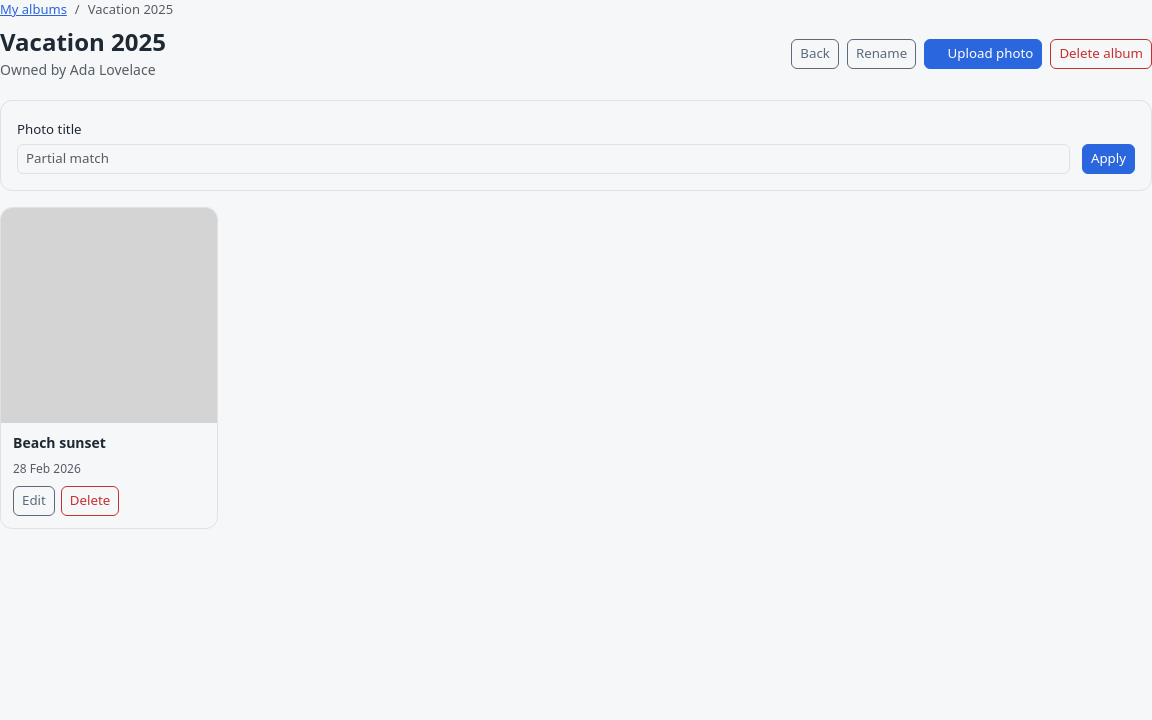
When the API refuses a photo change › abandons a rename when the album dialog is closed
What coordinates should you click on to do the following:
click the button "Rename"
I would click on:
 (882, 54)
Its box is [847,39,916,68].
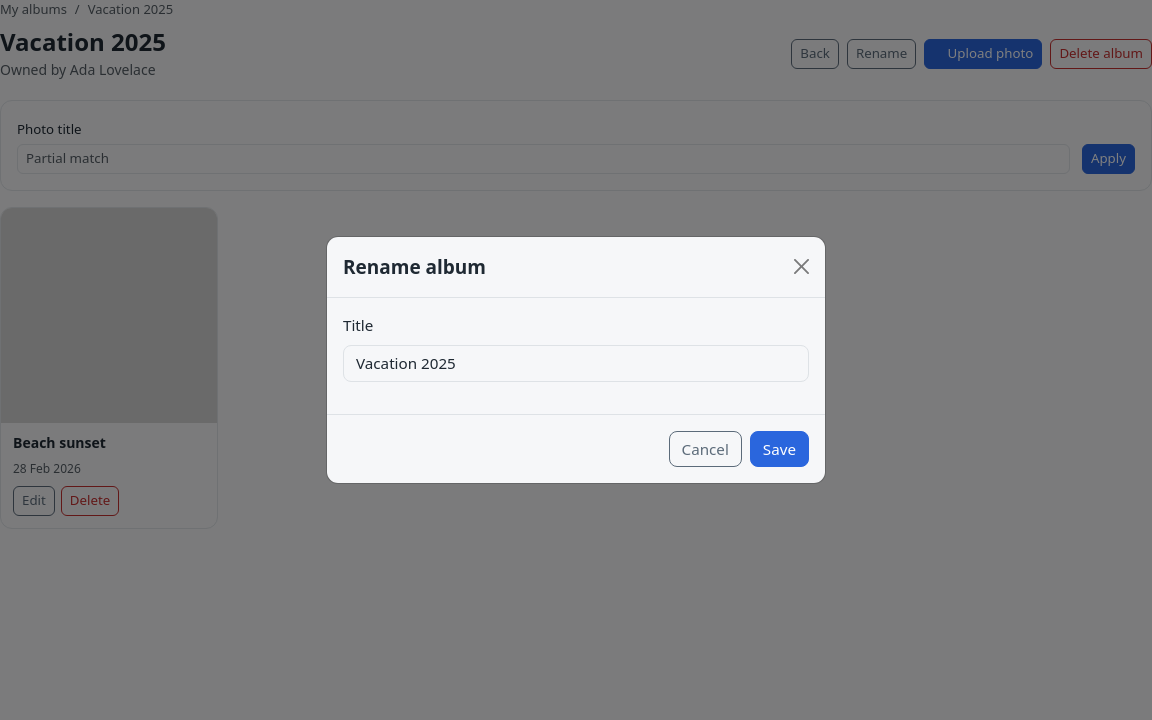
What coordinates should you click on to do the following:
click the button "Cancel"
I would click on:
 (705, 449)
Its box is [669,431,742,467].
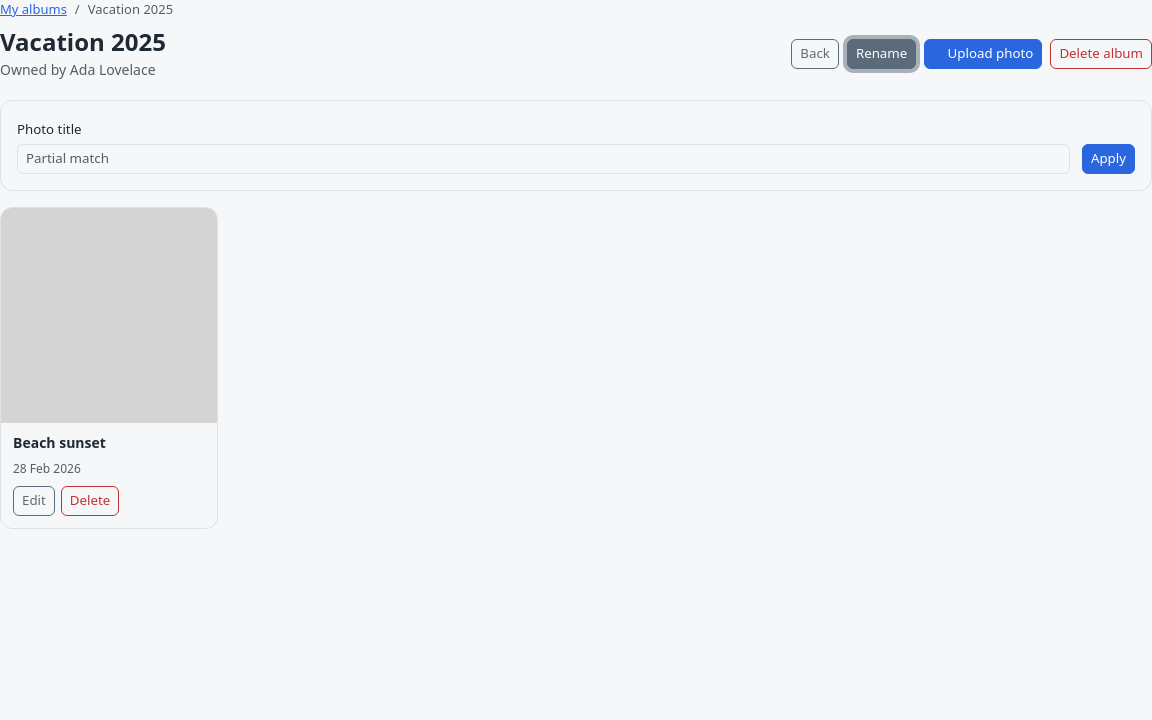
Expected: the list item "Vacation 2025" is shown, [67,0,173,20]
Expected: the dialog is gone
